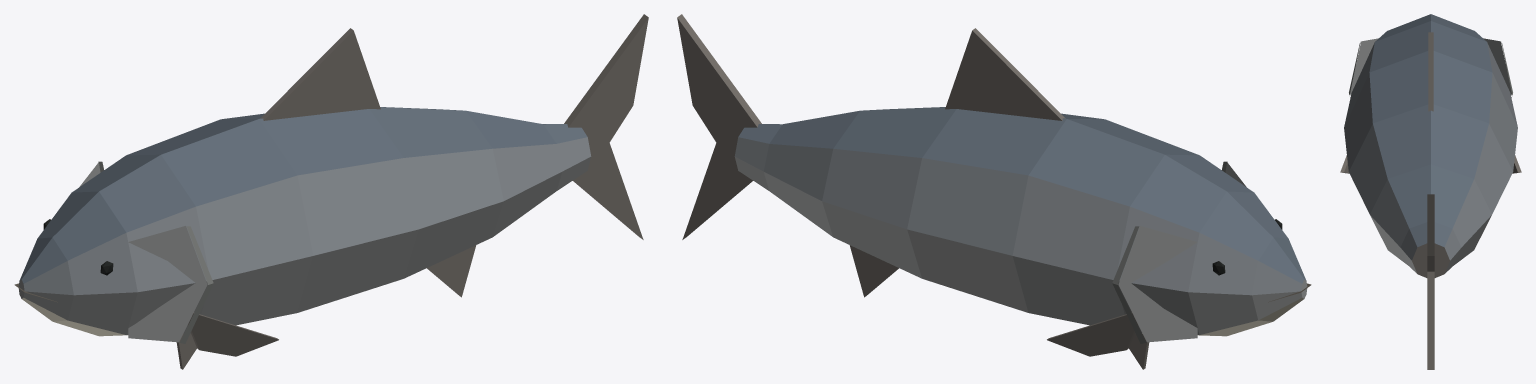
Rendered from RiverFish.fbx.
The picture shows the model from 3 angles, left to right: view 1: azimuth 30°, elevation 25°; view 2: azimuth 150°, elevation 25°; view 3: azimuth 270°, elevation 25°; orthographic projection. The views are drawn at different scales.
Parts seen in each view (by area): view 1: RiverFish; view 2: RiverFish; view 3: RiverFish.
Boxes of the visible parts, x1,y1,x2,y2 form: RiverFish: (14, 14, 648, 369); RiverFish: (677, 14, 1311, 369); RiverFish: (1340, 14, 1521, 369).
Bounding box in the file's own units: 60.7 × 27.6 × 19.
